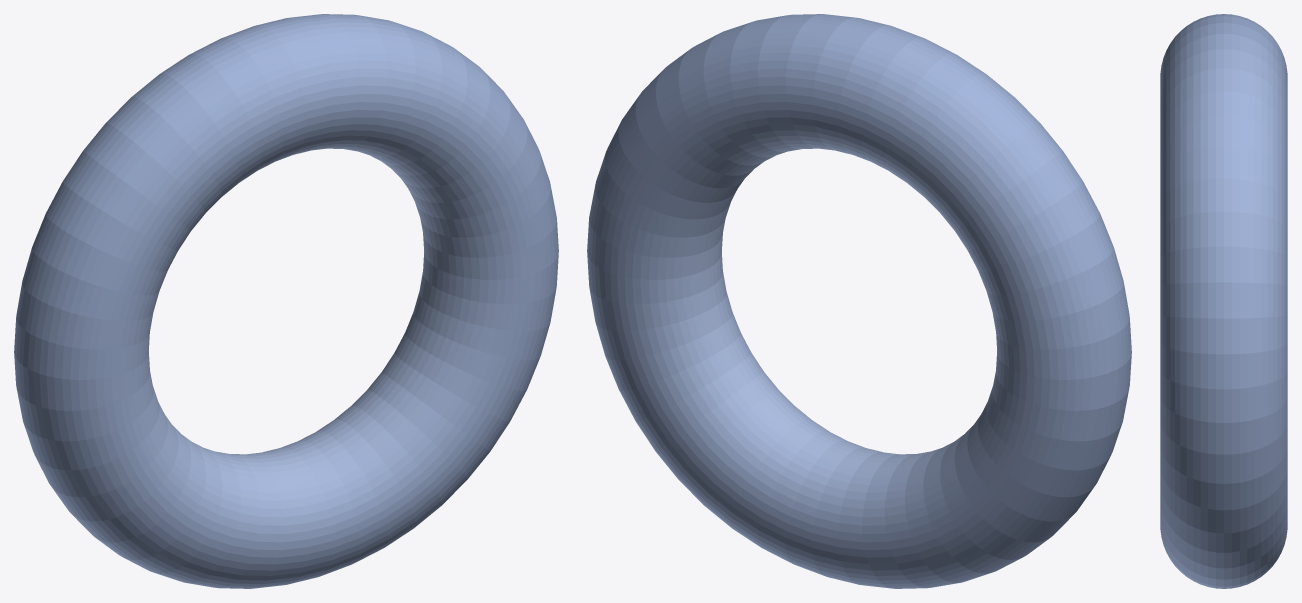
3 views of the same model, side by side, from view 1: azimuth 30°, elevation 25°; view 2: azimuth 150°, elevation 25°; view 3: azimuth 270°, elevation 25° (orthographic). The views are drawn at different scales.
Parts seen in each view (by area): view 1: world; view 2: world; view 3: world.
Boxes of the visible parts, left/top/right/bottom form: world: left=14, top=14, right=558, bottom=588; world: left=587, top=14, right=1131, bottom=588; world: left=1160, top=14, right=1287, bottom=588.
Size of the model in its own units: 22.27 by 22.22 by 4.92.
